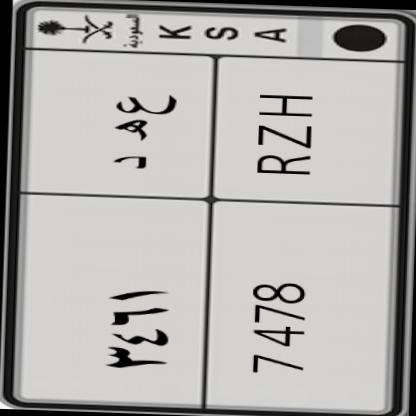english: (174, 46, 408, 416)
